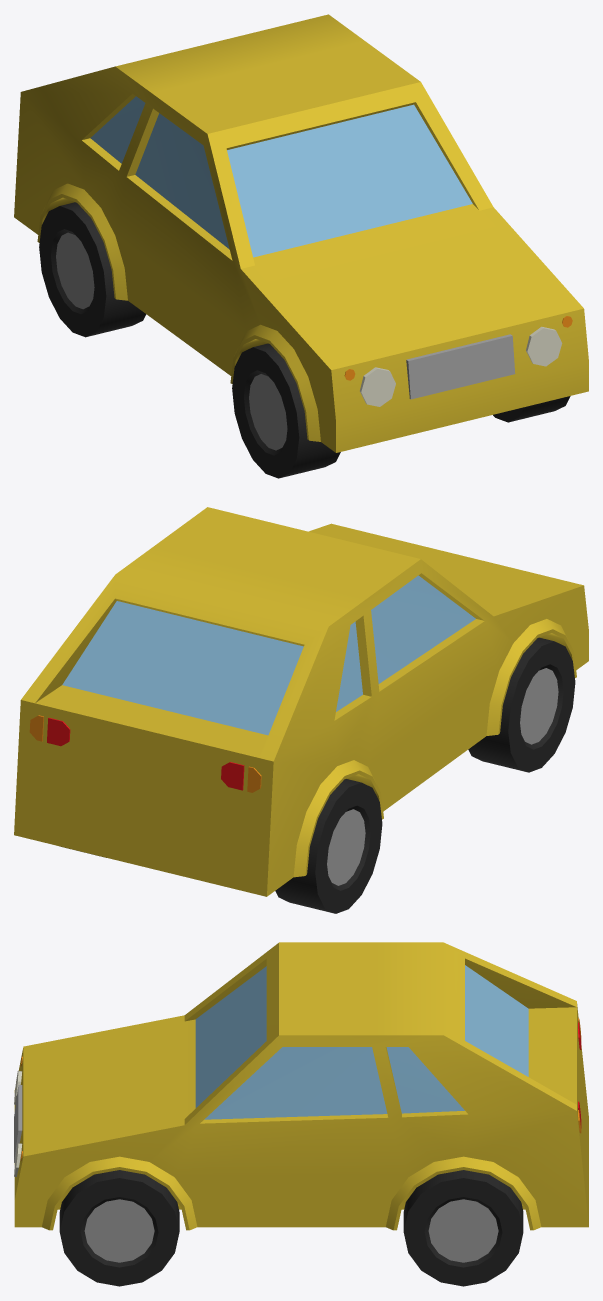
File: car-hatchback-citrus.gltf
3 renders of one model, top to bottom at view 1: azimuth 30°, elevation 25°; view 2: azimuth 150°, elevation 25°; view 3: azimuth 270°, elevation 25°, orthographic. The views are drawn at different scales.
Visible parts, largest first — view 1: car-hatchback-citrus_Cube.592; view 2: car-hatchback-citrus_Cube.592; view 3: car-hatchback-citrus_Cube.592.
Part boxes in pixels (x1=…): car-hatchback-citrus_Cube.592: x1=14, y1=14, x2=588, y2=478; car-hatchback-citrus_Cube.592: x1=14, y1=507, x2=588, y2=913; car-hatchback-citrus_Cube.592: x1=14, y1=942, x2=588, y2=1286.
Bounding box in the file's own units: 1.78 × 1.65 × 3.61.
